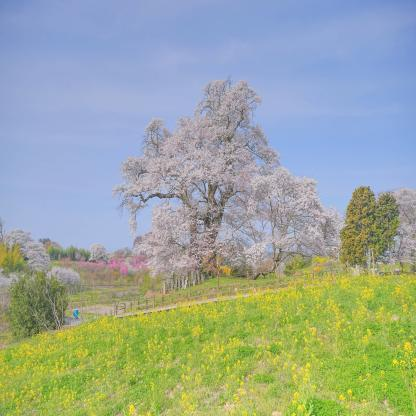EdohiganSakura: (110, 75, 347, 283)
